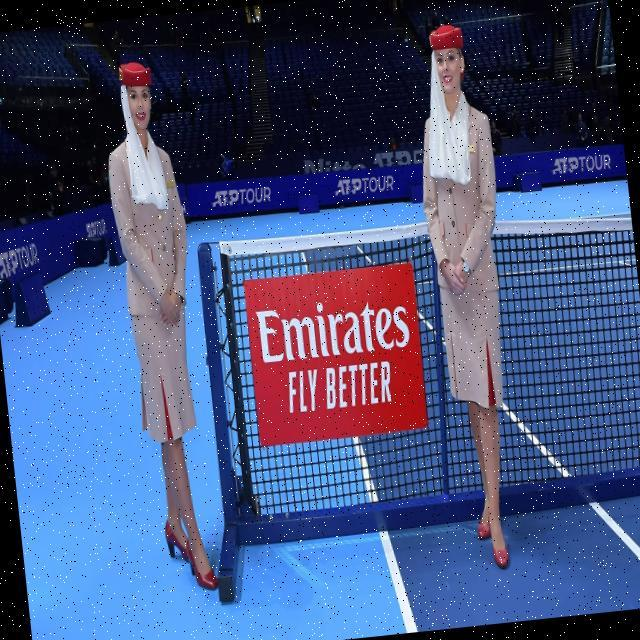Emirates: (255, 291, 412, 366)
